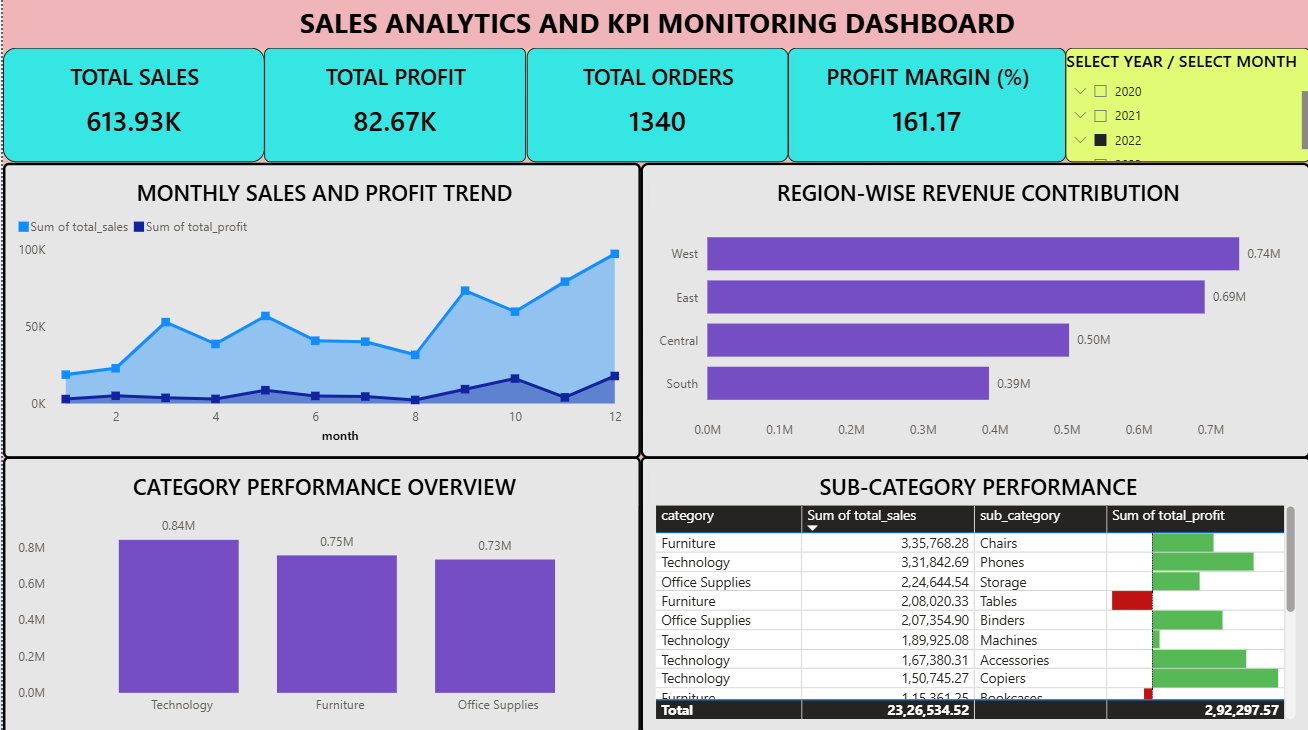

This screenshot's page, from the dashboard's own definition file:
{"tool":"powerbi","page":{"name":"Page 1","canvas":[1280,720],"ordinal":0},"visuals":[{"type":"card","title":"TOTAL SALES","fields":{"Values":["Sum(sales_performance kpi_overall.total_sales)"]},"box":[0,48,256,112],"z":0},{"type":"card","title":"TOTAL PROFIT","fields":{"Values":["Sum(sales_performance kpi_overall.total_profit)"]},"box":[256,48,256,112],"z":1000},{"type":"card","title":"PROFIT MARGIN (%)","fields":{"Values":["Sum(sales_performance kpi_overall.profit_margin_pct)"]},"box":[768,48,272,112],"z":2000},{"type":"card","title":"TOTAL ORDERS","fields":{"Values":["Sum(sales_performance kpi_overall.total_orders)"]},"box":[512,48,256,112],"z":3000},{"type":"lineChart","title":"MONTHLY SALES AND PROFIT TREND","fields":{"Category":["sales_performance kpi_overall.year","sales_performance kpi_overall.month"],"Y":["Sum(sales_performance kpi_overall.total_sales)","Sum(sales_performance kpi_overall.total_profit)"]},"box":[0,160.4,624.1,290],"z":4000},{"type":"barChart","title":"REGION-WISE REVENUE CONTRIBUTION","fields":{"Category":["sales_performance kpi_region.region"],"Y":["Sum(sales_performance kpi_region.total_sales)"]},"box":[624.1,160.4,656.2,290],"z":5000},{"type":"columnChart","title":"CATEGORY PERFORMANCE OVERVIEW","fields":{"Category":["sales_performance kpi_sub_category.category"],"Y":["Sum(sales_performance kpi_sub_category.total_sales)"]},"box":[0,448,624,272],"z":6000},{"type":"tableEx","title":"SUB-CATEGORY PERFORMANCE","fields":{"Values":["sales_performance kpi_sub_category.category","Sum(sales_performance kpi_sub_category.total_sales)","sales_performance kpi_sub_category.sub_category","Sum(sales_performance kpi_sub_category.total_profit)"]},"box":[624,448,656,272],"z":7000},{"type":"slicer","title":"SELECT YEAR / SELECT MONTH","fields":{"Values":["sales_performance kpi_overall.year","sales_performance kpi_overall.month"]},"box":[1040,48,240,112],"z":8000},{"type":"textbox","box":[0,0,1280,48],"z":8001}]}

Visuals, with their boxes in screenshot pixels (x1, y1, x2, y2), scaled from the page's 1280x720 canvas onto the 1308x730 screenshot:
"TOTAL SALES" card: l=0, t=49, r=262, b=162
"TOTAL PROFIT" card: l=262, t=49, r=523, b=162
"PROFIT MARGIN (%)" card: l=785, t=49, r=1063, b=162
"TOTAL ORDERS" card: l=523, t=49, r=785, b=162
"MONTHLY SALES AND PROFIT TREND" lineChart: l=0, t=163, r=638, b=457
"REGION-WISE REVENUE CONTRIBUTION" barChart: l=638, t=163, r=1307, b=457
"CATEGORY PERFORMANCE OVERVIEW" columnChart: l=0, t=454, r=638, b=729
"SUB-CATEGORY PERFORMANCE" tableEx: l=638, t=454, r=1307, b=729
"SELECT YEAR / SELECT MONTH" slicer: l=1063, t=49, r=1307, b=162
textbox: l=0, t=0, r=1307, b=49
